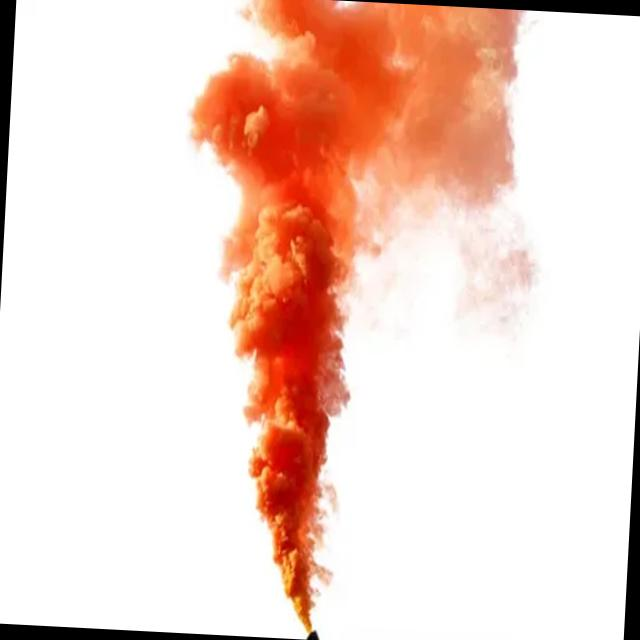Smoke: (162, 1, 556, 638)
